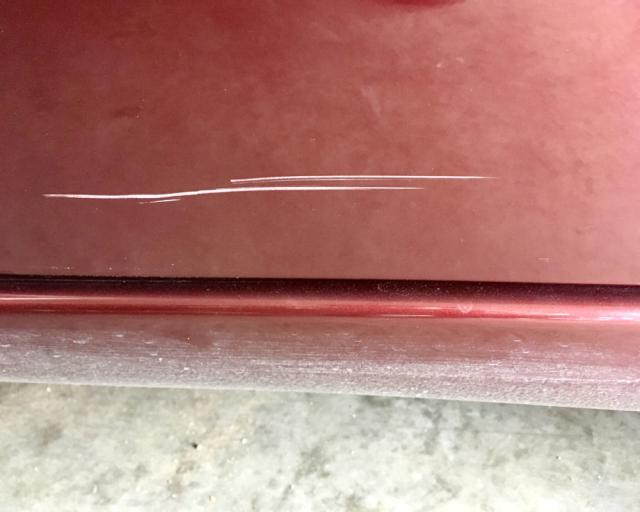scratch: (33, 173, 504, 209)
